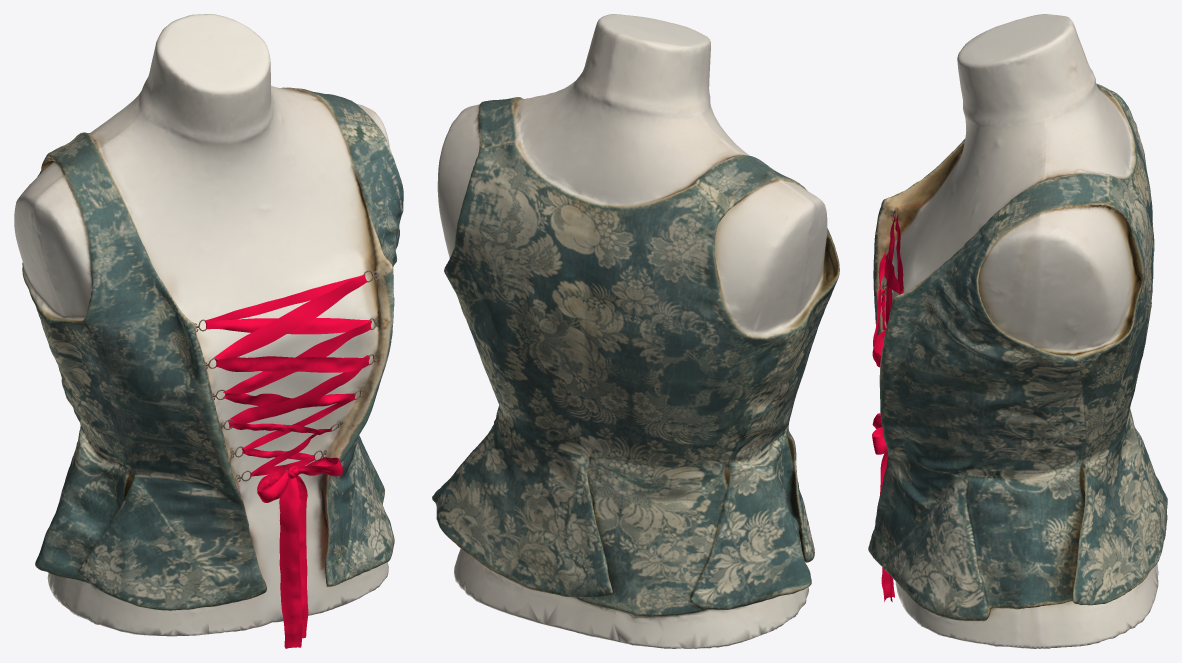
File: corset-optimo.glb
3 renders of one model, left to right at view 1: azimuth 30°, elevation 25°; view 2: azimuth 150°, elevation 25°; view 3: azimuth 270°, elevation 25°, orthographic. The views are drawn at different scales.
Parts seen in each view (by area): view 1: Object_2; view 2: Object_2; view 3: Object_2.
Part boxes in pixels (x1,y1,x2,y2): Object_2: (14, 14, 403, 648); Object_2: (432, 14, 839, 648); Object_2: (868, 14, 1167, 648).
Bounding box in the file's own units: 0.4096 × 0.634 × 0.3021.
1 material, 1 textured.
